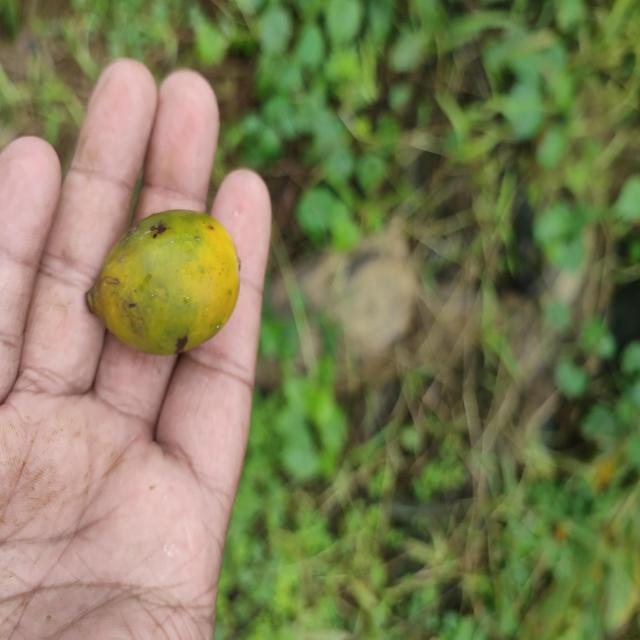good: (85, 211, 241, 358)
